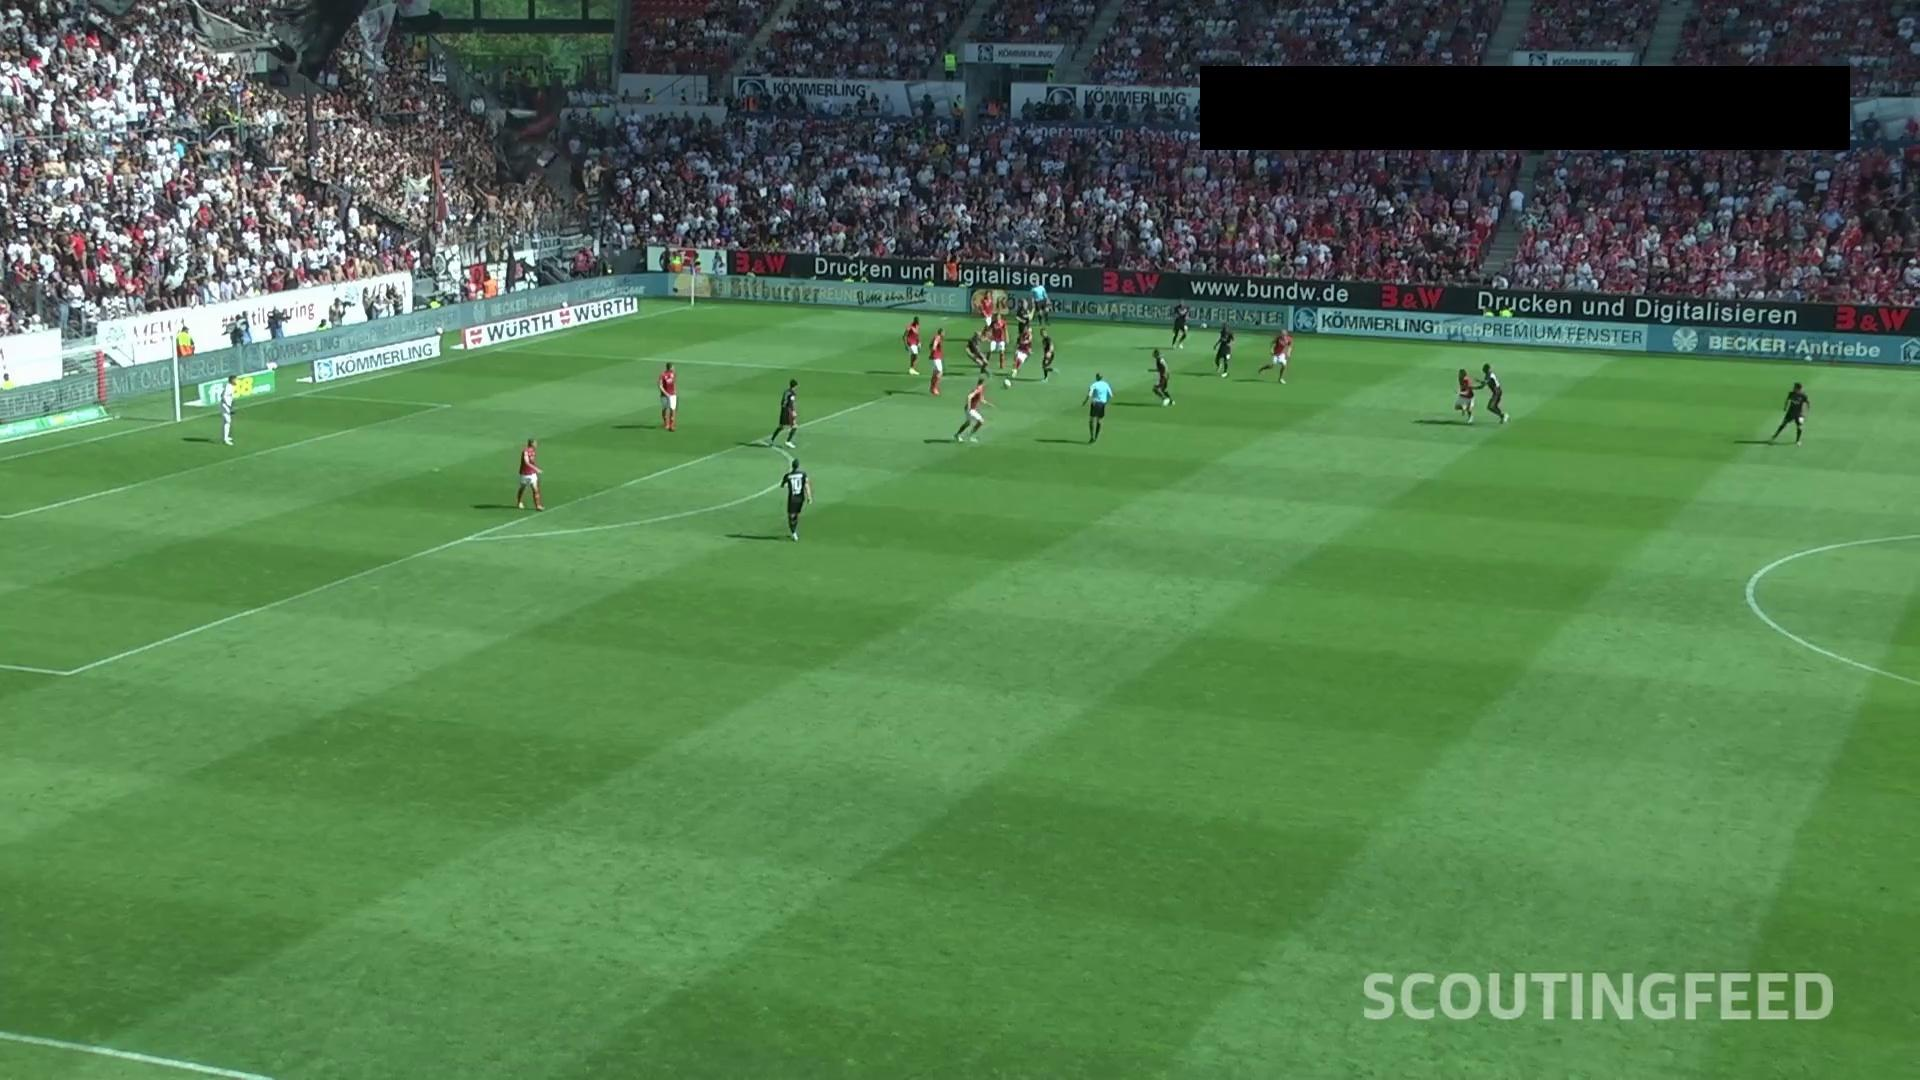Location-of-ball: (996, 371, 1019, 393)
